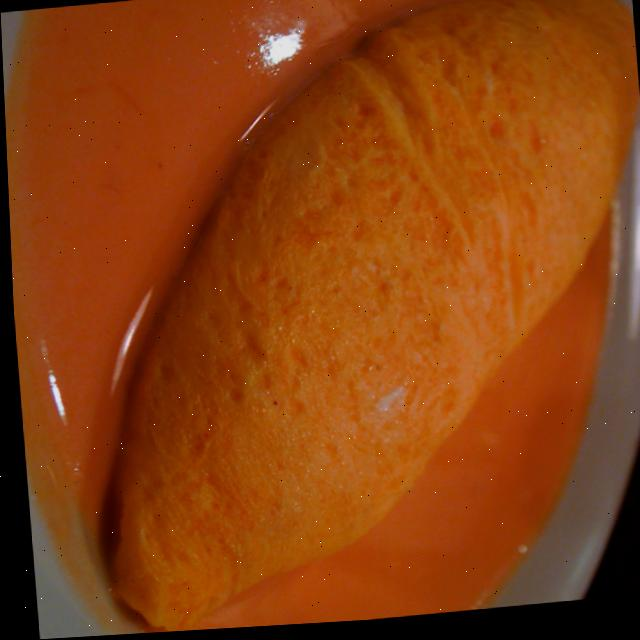鸡蛋料理: (52, 0, 640, 638)
